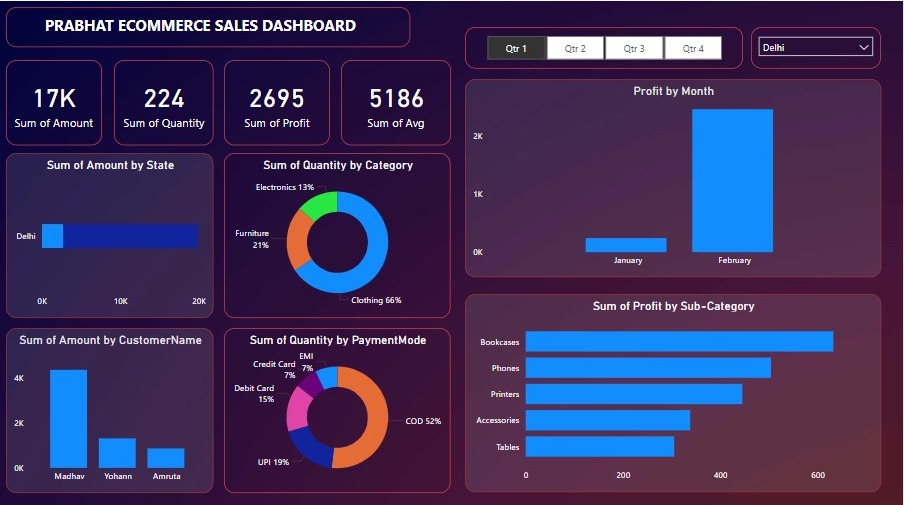

The dashboard page shown, as its layout file describes it:
{"tool":"powerbi","page":{"name":"Page 1","canvas":[1280,720],"ordinal":0},"visuals":[{"type":"textbox","box":[10,8.6,572.9,57.1],"z":0},{"type":"lineClusteredColumnComboChart","title":"Profit by Month","fields":{"Category":["Orders.Order Date.Variation.Date Hierarchy.Month"],"Y":["Details.Profit"]},"box":[660,110,590,281.4],"z":1000},{"type":"barChart","fields":{"Category":["Details.Sub-Category"],"Y":["Details.Profit"]},"box":[660,415.7,590,281.4],"z":2000},{"type":"donutChart","fields":{"Category":["Details.Category"],"Y":["Details.Quantity"]},"box":[318.6,215.7,321.4,234.3],"z":3000},{"type":"donutChart","fields":{"Y":["Details.Quantity"],"Category":["Details.PaymentMode"]},"box":[318.6,462.9,321.4,234.3],"z":4000},{"type":"card","fields":{"Values":["Details.Amount"]},"box":[10,84.3,135.7,121.4],"z":5000},{"type":"card","fields":{"Values":["Details.Quantity"]},"box":[162.9,84.3,141.4,121.4],"z":6000},{"type":"card","fields":{"Values":["Details.Profit"]},"box":[318.6,84.3,150,121.4],"z":7000},{"type":"card","fields":{"Values":["Details.Avg"]},"box":[484.3,84.3,155.7,121.4],"z":8000},{"type":"barChart","title":"Sum of Amount by State","fields":{"Category":["Orders.State"],"Y":["Details.Profit","Details.Amount"]},"box":[10,215.7,294.3,234.3],"z":9000},{"type":"columnChart","fields":{"Category":["Orders.CustomerName"],"Y":["Details.Amount"]},"box":[10,462.9,294.3,234.3],"z":10000},{"type":"slicer","fields":{"Values":["Orders.Order Date.Variation.Date Hierarchy.Quarter"]},"box":[660,37.1,394.3,58.6],"z":11000},{"type":"slicer","fields":{"Values":["Orders.State"]},"box":[1065.7,37.1,184.3,58.6],"z":12000}]}

Visuals, with their boxes in screenshot pixels (x1, y1, x2, y2), scaled from the page's 1280x720 canvas onto the 904x505 screenshot:
textbox: detection(7, 6, 412, 46)
"Profit by Month" lineClusteredColumnComboChart: detection(466, 77, 883, 275)
barChart - Details.Sub-Category x Details.Profit: detection(466, 292, 883, 489)
donutChart - Details.Category x Details.Quantity: detection(225, 151, 452, 316)
donutChart - Details.Quantity x Details.PaymentMode: detection(225, 325, 452, 489)
card - Details.Amount: detection(7, 59, 103, 144)
card - Details.Quantity: detection(115, 59, 215, 144)
card - Details.Profit: detection(225, 59, 331, 144)
card - Details.Avg: detection(342, 59, 452, 144)
"Sum of Amount by State" barChart: detection(7, 151, 215, 316)
columnChart - Orders.CustomerName x Details.Amount: detection(7, 325, 215, 489)
slicer - Orders.Order Date.Variation.Date Hierarchy.Quarter: detection(466, 26, 745, 67)
slicer - Orders.State: detection(753, 26, 883, 67)
